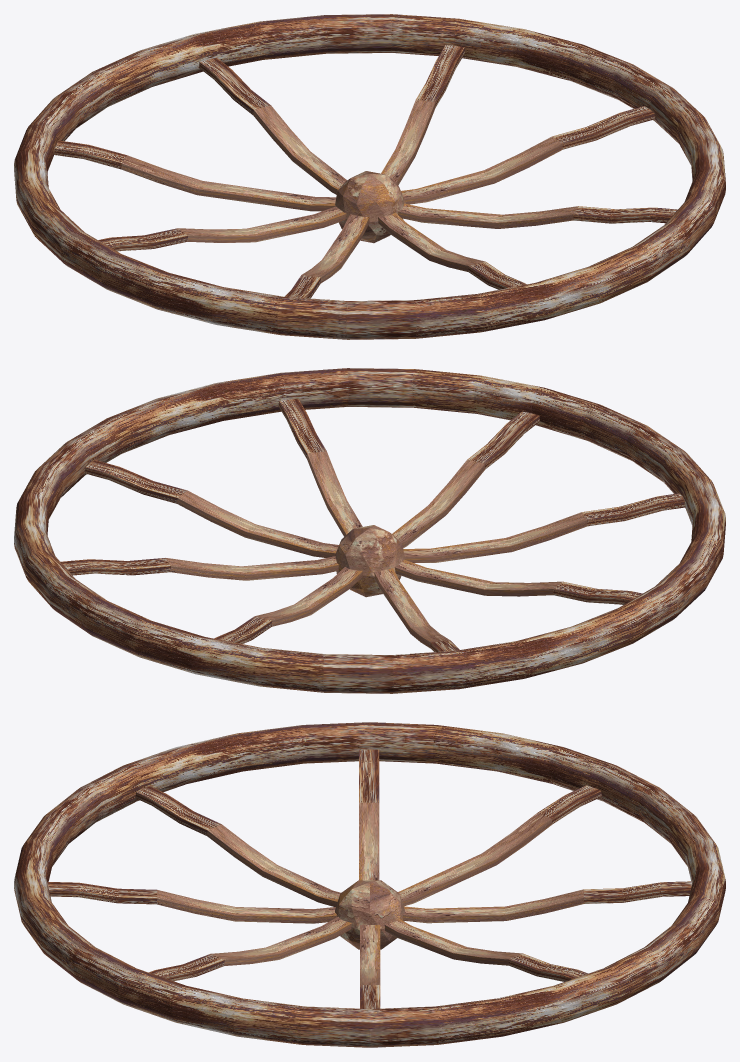
File: Scrap_parts_wheel.glb
3 renders of one model, top to bottom at view 1: azimuth 30°, elevation 25°; view 2: azimuth 150°, elevation 25°; view 3: azimuth 270°, elevation 25°, orthographic.
Parts seen in each view (by area): view 1: Cube.002; view 2: Cube.002; view 3: Cube.002.
Part boxes in pixels (bbox=[...]): Cube.002: bbox=[14, 14, 725, 339]; Cube.002: bbox=[14, 368, 725, 693]; Cube.002: bbox=[14, 722, 725, 1047].
Bounding box in the file's own units: 1.45 × 0.1819 × 1.45.
Materials: 2 (2 with a texture image).
